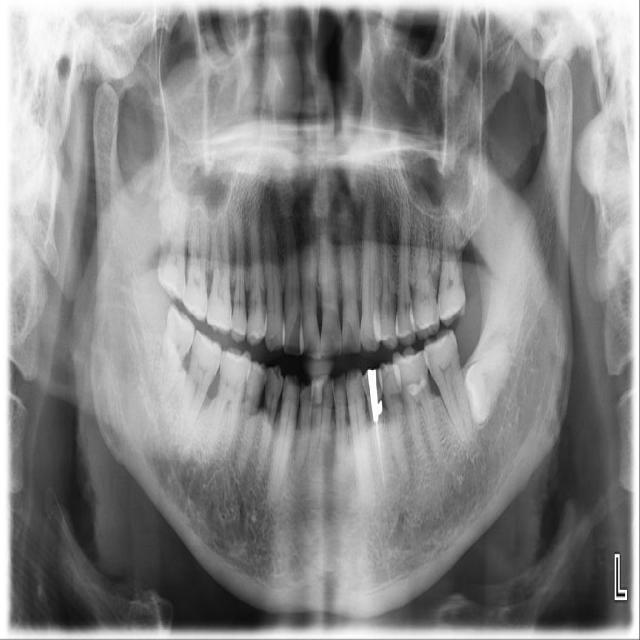Filling: (393, 346, 428, 398), (363, 367, 383, 415)
Root Canal Treatment: (377, 424, 382, 484)
impacted tooth: (465, 331, 513, 421), (157, 308, 200, 402)
